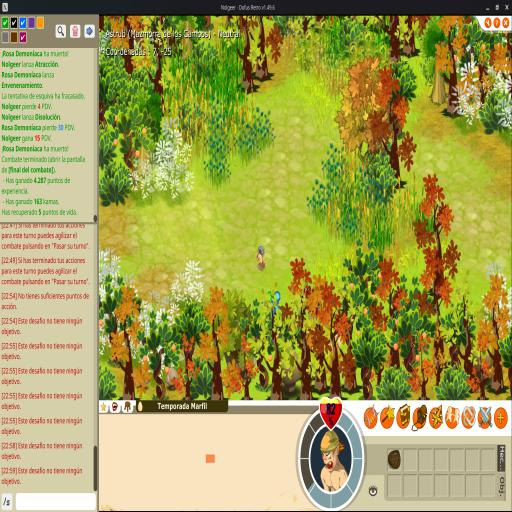Enemigos: (268, 290, 282, 318)
Personaje: (256, 246, 266, 272)
